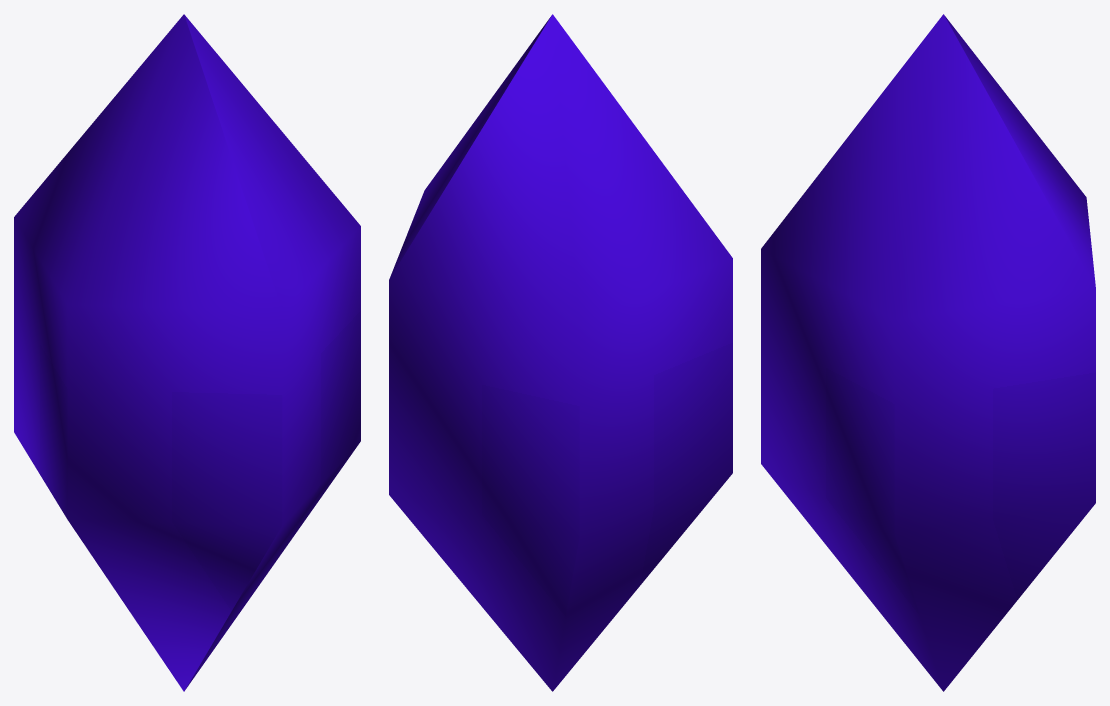
Rendered from INST_COURAGEPOINT_1.obj.
3 views of the same model, side by side, from view 1: azimuth 30°, elevation 25°; view 2: azimuth 150°, elevation 25°; view 3: azimuth 270°, elevation 25° (orthographic).
Parts seen in each view (by area): view 1: CouragePoint_1; view 2: CouragePoint_1; view 3: CouragePoint_1.
Part boxes in pixels (box(x1,y1,x2,y2)): CouragePoint_1: box(14, 14, 360, 691); CouragePoint_1: box(389, 14, 732, 691); CouragePoint_1: box(761, 14, 1095, 691).
Bounding box in the file's own units: 16.01 × 34.49 × 15.44.
